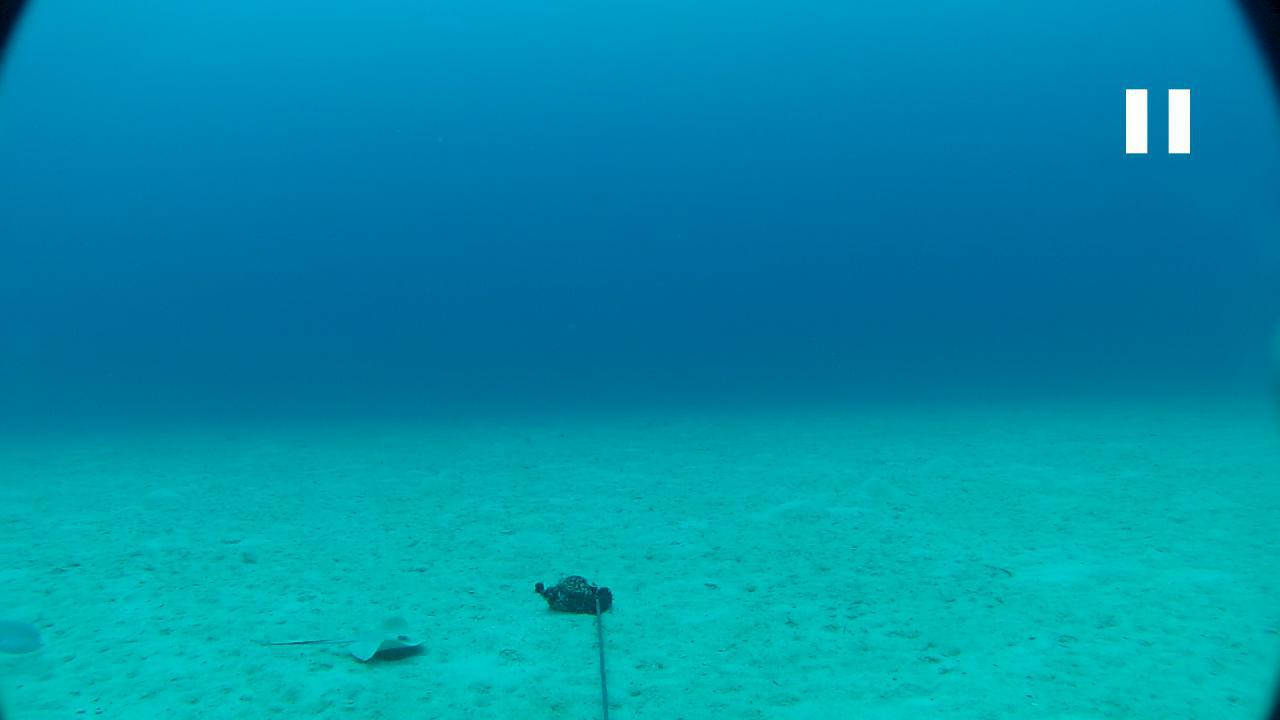dasyatis: (250, 616, 427, 664)
